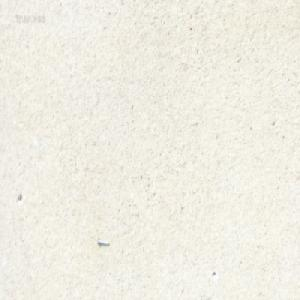Nail: (95, 236, 110, 246)
